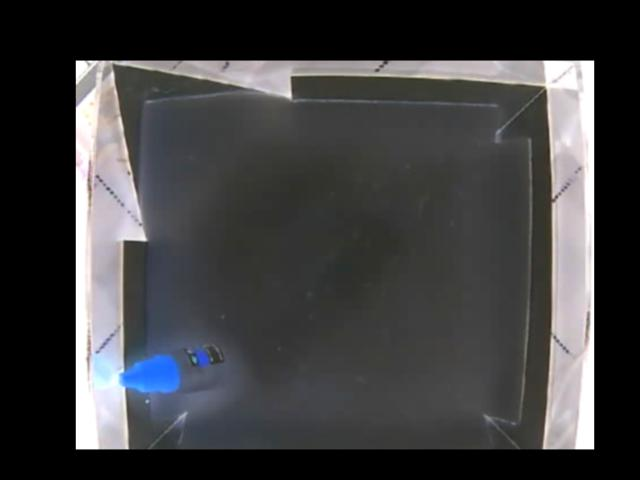Bottle: (118, 342, 224, 397)
